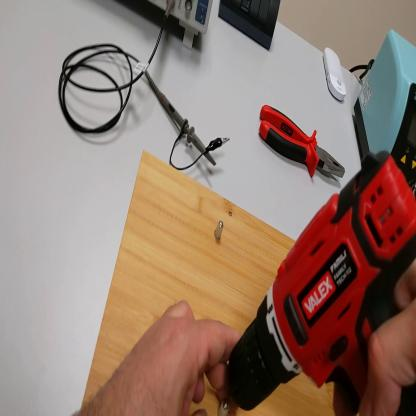electric screwdriver: (229, 154, 416, 414)
hand: (98, 298, 242, 415), (337, 258, 416, 415)
oscilloscope: (155, 3, 214, 48)
oscilloscope probe tip: (147, 70, 218, 169)
pliers: (259, 105, 346, 182)
welder station: (355, 30, 416, 167)
working area: (81, 152, 335, 416)
